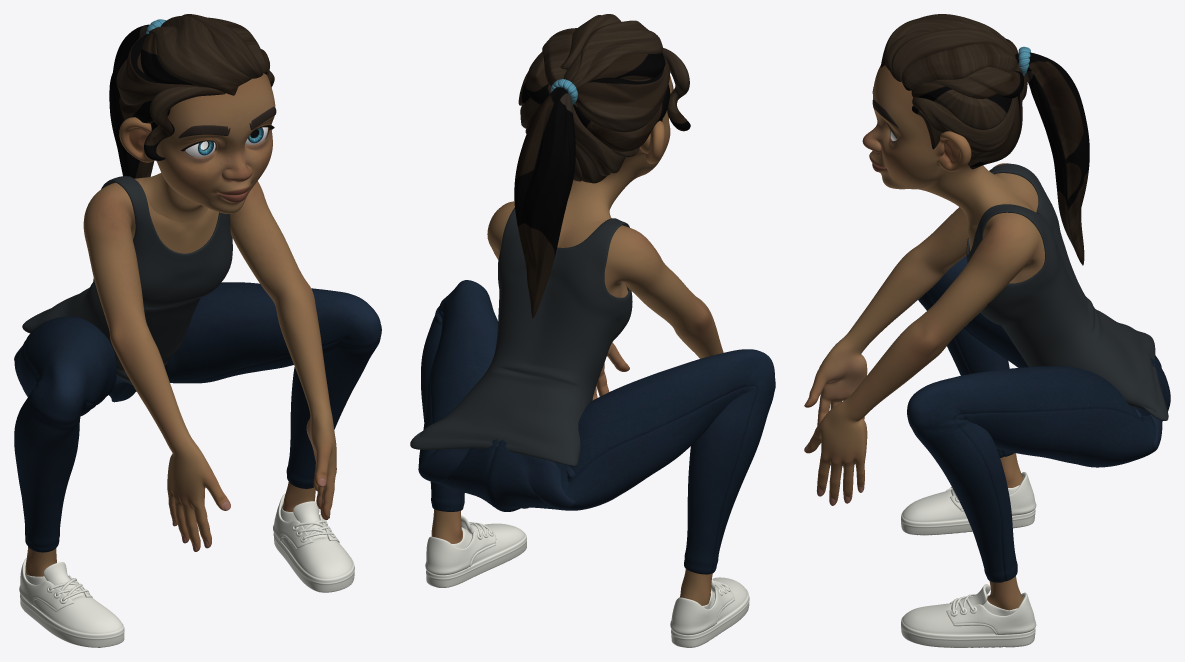
Rendered from echo-rain.glb.
3 renders of one model, left to right at view 1: azimuth 30°, elevation 25°; view 2: azimuth 150°, elevation 25°; view 3: azimuth 270°, elevation 25°, orthographic. The views are drawn at different scales.
Parts seen in each view (by area): view 1: Echo_jeans, Echo_body, Echo_head, Echo_top, Echo_shoes, Echo_hair_main, Echo_hair_ponytail, Echo_hair_strand, Echo_eyebrows, Echo_eyes; view 2: Echo_jeans, Echo_top, Echo_hair_main, Echo_body, Echo_hair_ponytail, Echo_shoes, Echo_head, Echo_hair_strand; view 3: Echo_jeans, Echo_body, Echo_top, Echo_hair_main, Echo_head, Echo_shoes, Echo_hair_ponytail.
Boxes of the visible parts, <box> form: Echo_jeans: <box>14,282,381,552</box>; Echo_body: <box>25,177,336,576</box>; Echo_head: <box>119,73,275,222</box>; Echo_top: <box>22,176,232,383</box>; Echo_shoes: <box>19,493,354,647</box>; Echo_hair_main: <box>116,14,274,130</box>; Echo_hair_ponytail: <box>109,24,154,178</box>; Echo_hair_strand: <box>144,86,225,160</box>; Echo_eyebrows: <box>178,106,276,138</box>; Echo_eyes: <box>185,127,267,157</box>; Echo_jeans: <box>418,280,775,574</box>; Echo_top: <box>410,207,632,466</box>; Echo_hair_main: <box>518,14,670,183</box>; Echo_body: <box>431,201,723,605</box>; Echo_hair_ponytail: <box>514,87,575,318</box>; Echo_shoes: <box>425,515,749,647</box>; Echo_head: <box>563,75,672,221</box>; Echo_hair_strand: <box>662,48,690,131</box>; Echo_jeans: <box>907,255,1170,582</box>; Echo_body: <box>804,163,1044,610</box>; Echo_top: <box>966,163,1168,420</box>; Echo_hair_main: <box>880,14,1027,169</box>; Echo_head: <box>862,65,1013,225</box>; Echo_shoes: <box>901,472,1036,647</box>; Echo_hair_ponytail: <box>1015,52,1089,265</box>.
Bounding box in the file's own units: 0.6492 × 1.04 × 0.62.
16 materials, 15 textured.
